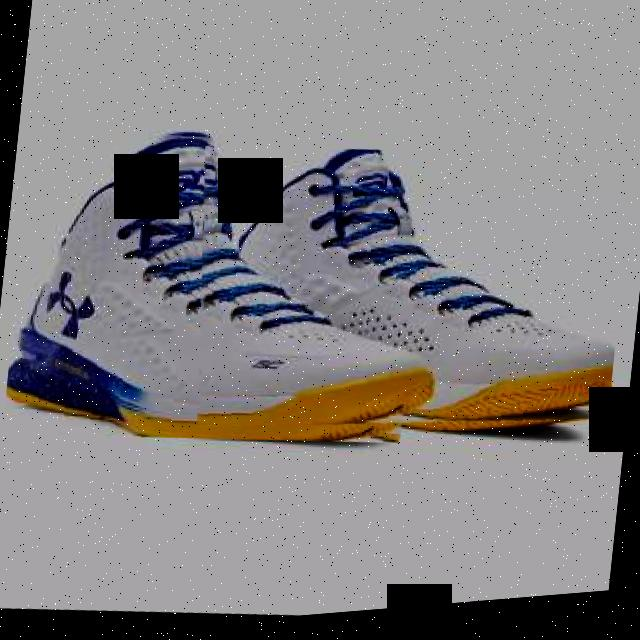shoe: (2, 101, 440, 476), (176, 121, 634, 475)
